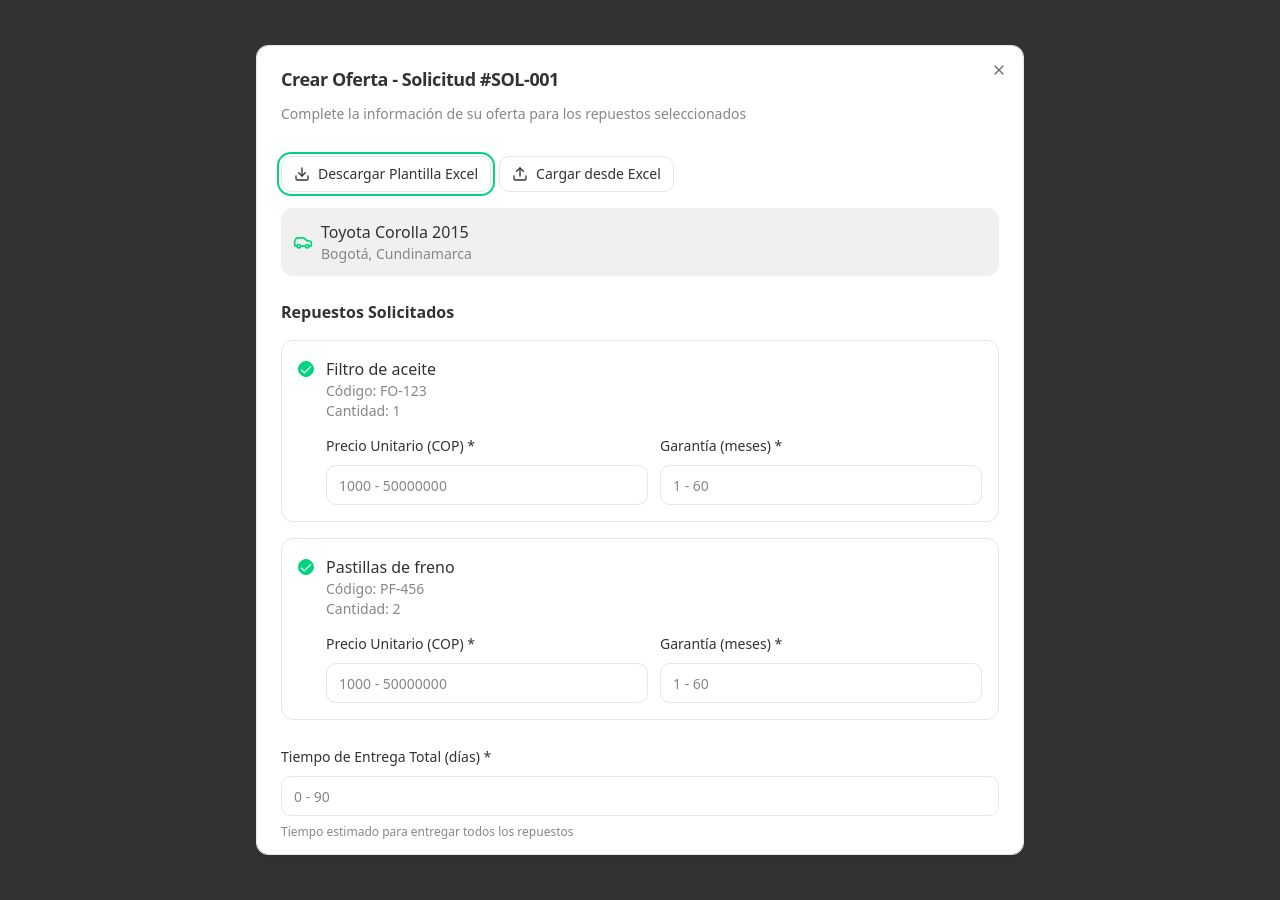
Test case: OfertaIndividualModal › validates garantia range (1-60 months)
Type "50000" into the number field with placeholder "1000 - 50000000" below "FO-123" at (487, 485), box 326,465 -> 648,505
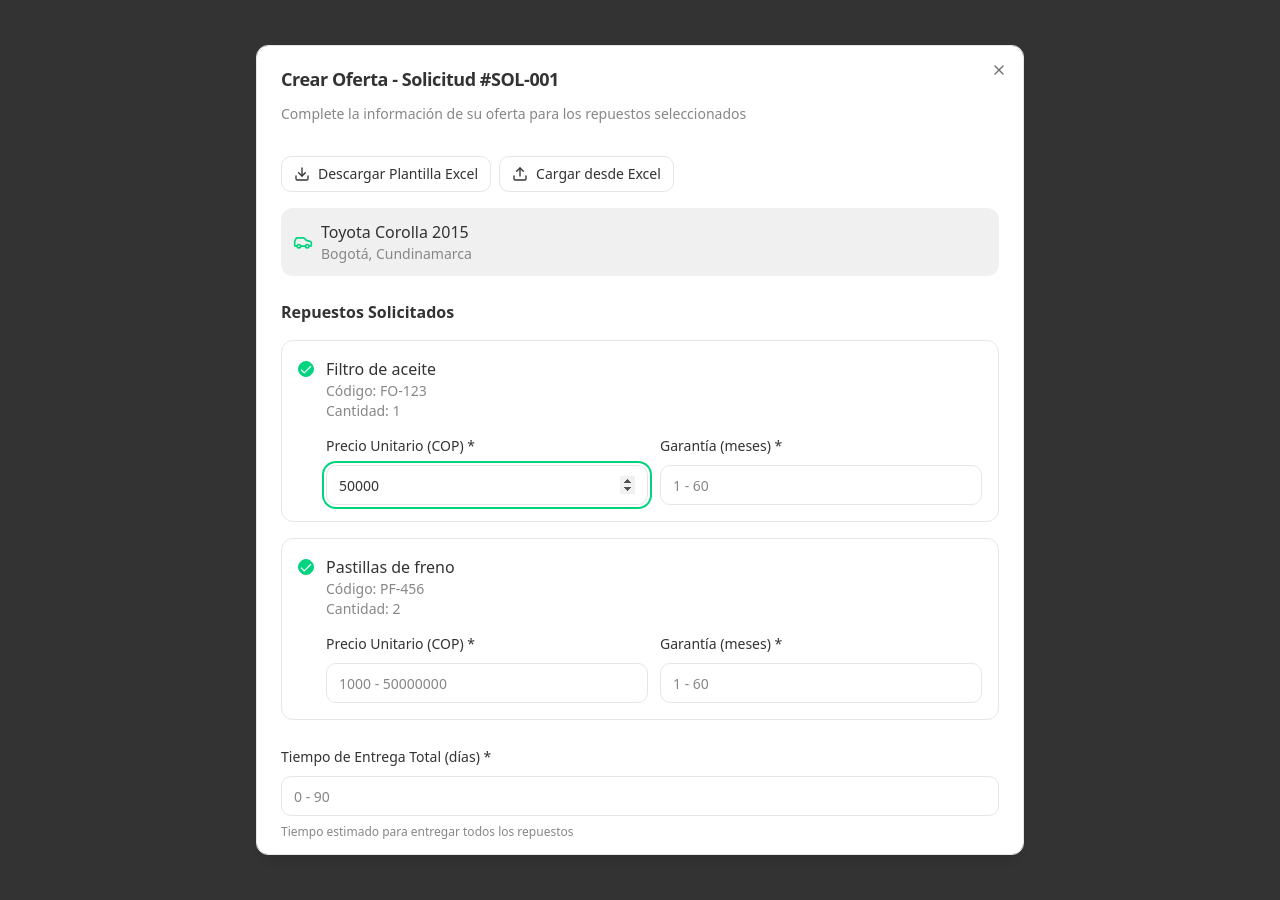
Type "70" into the number field with placeholder "1 - 60" below "FO-123" at (821, 485), box 660,465 -> 982,505
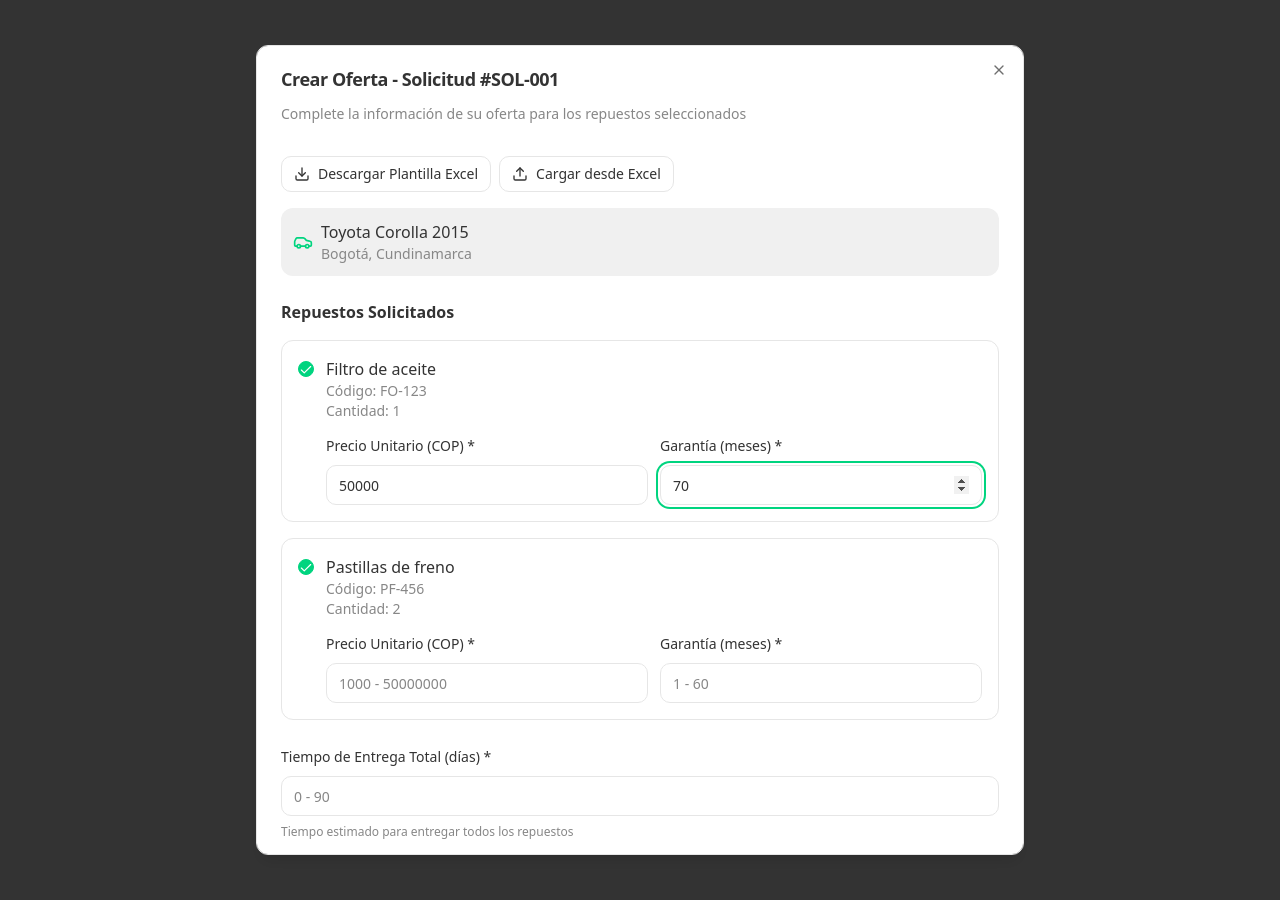
Type "5" into the number field with placeholder "0 - 90" at (640, 796), box 281,776 -> 999,816
(page scrolled)
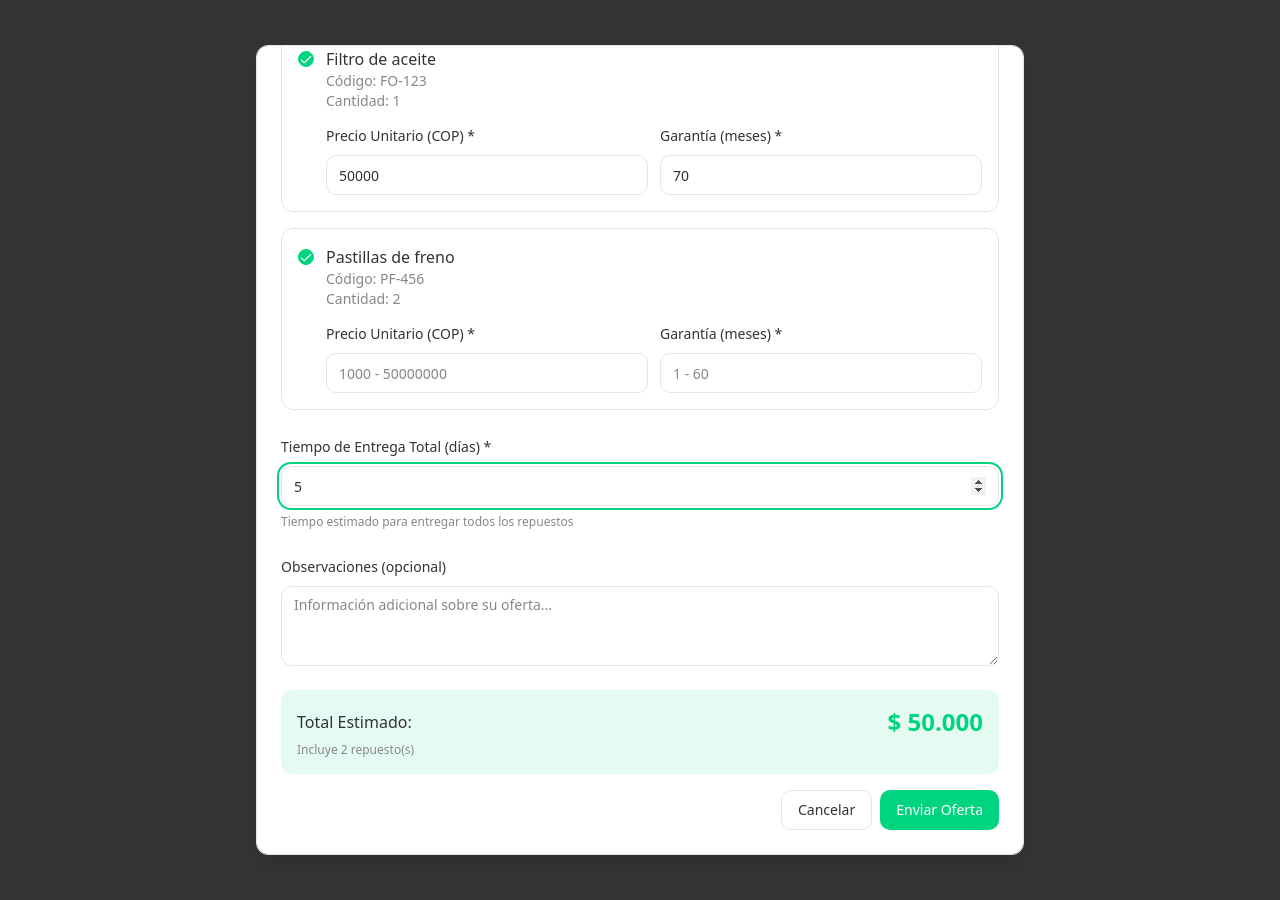
Click the button "Enviar Oferta" at (940, 810), box 880,790 -> 999,830
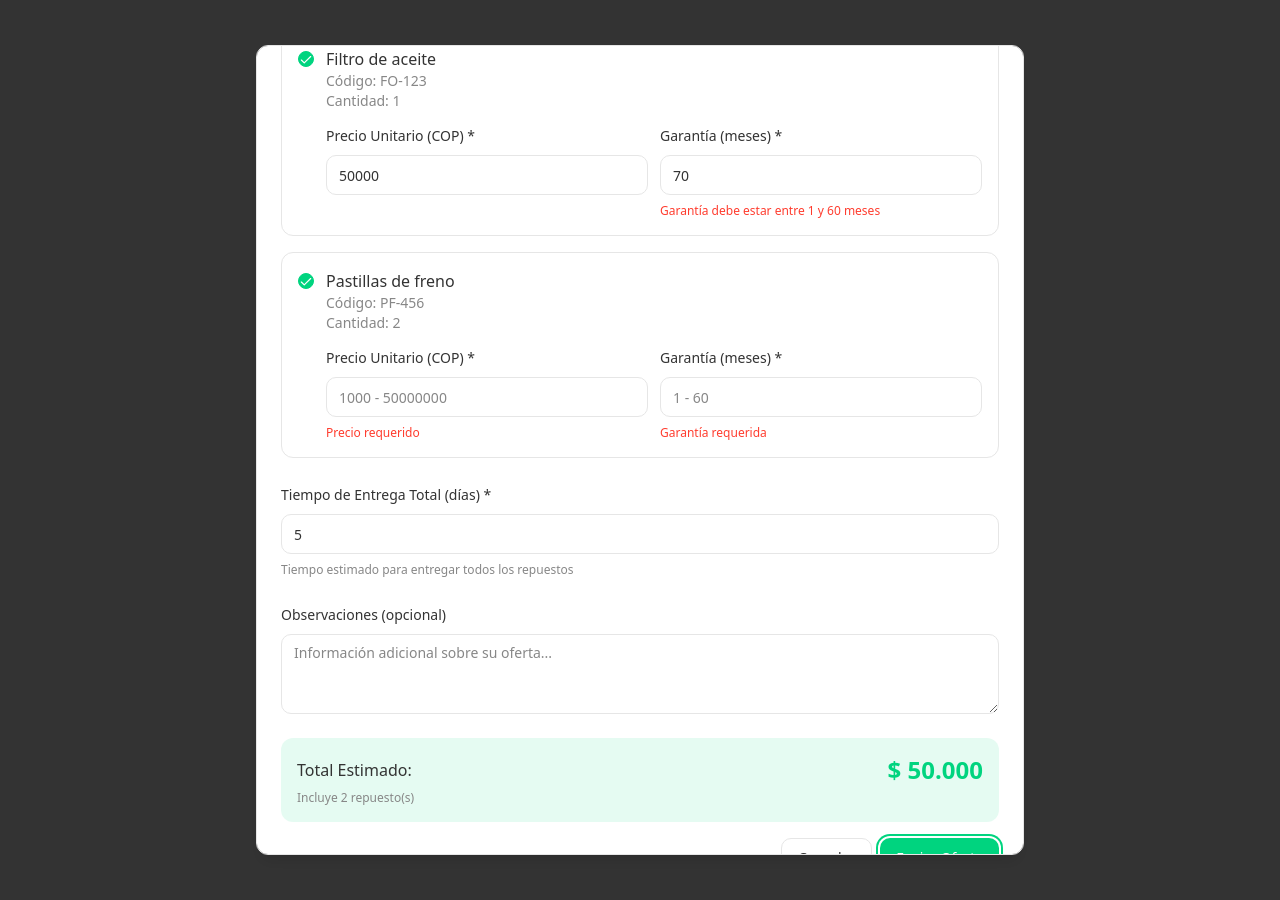
Expected: the text "Garantía debe estar entre 1 y 60 meses" is shown, 660,202 -> 880,219
